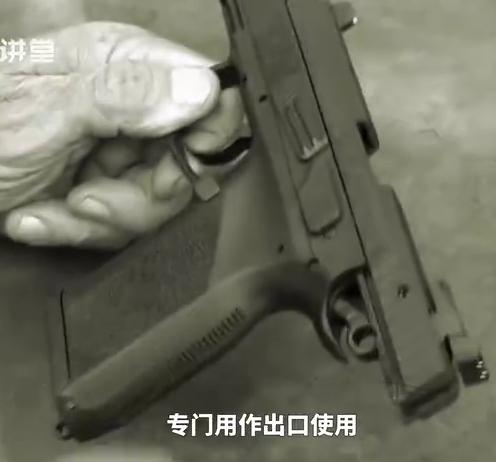gun: (1, 1, 496, 462)
